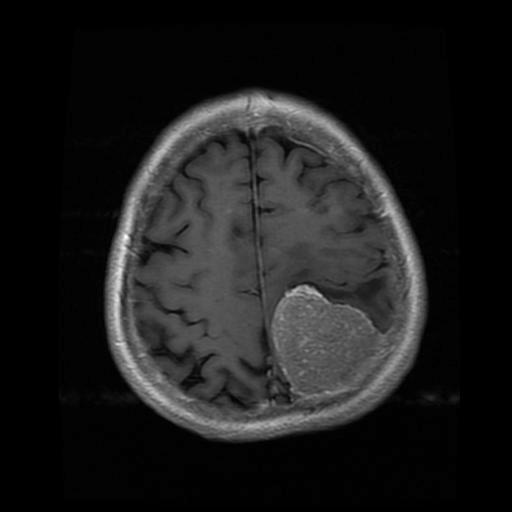Tumour-Meningioma: (253, 273, 398, 407)
